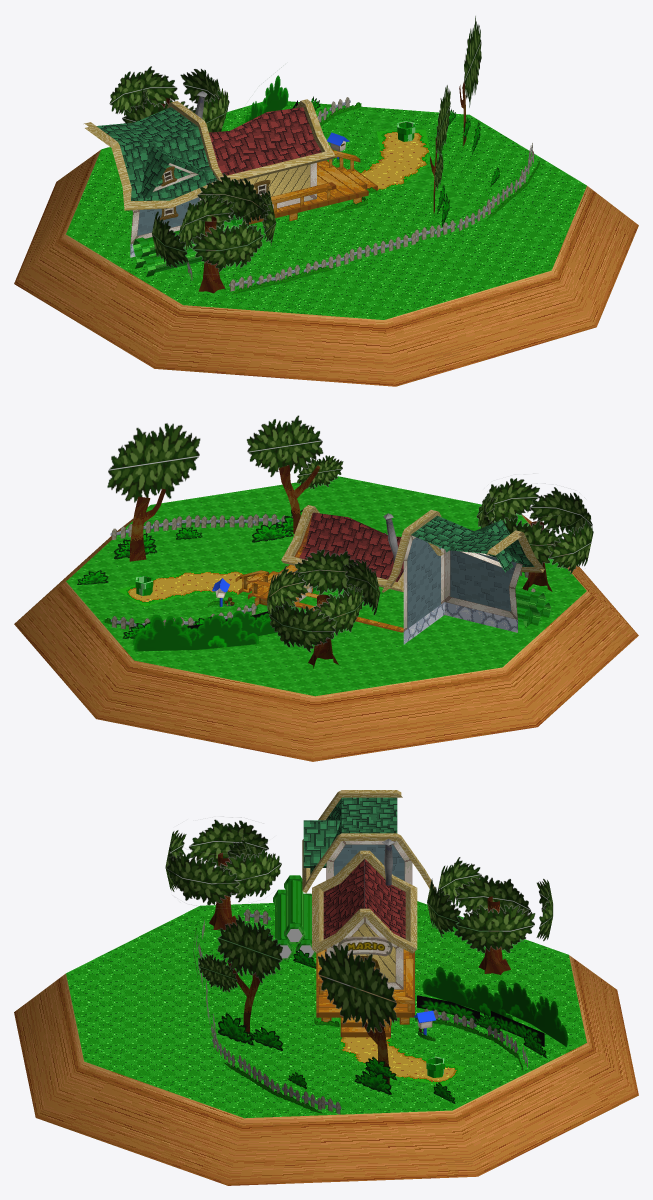
3 views of the same model, one above another, from view 1: azimuth 30°, elevation 25°; view 2: azimuth 150°, elevation 25°; view 3: azimuth 270°, elevation 25° (orthographic). The views are drawn at different scales.
Visible parts, largest first — view 1: Object_16, Object_2, Object_5, Object_24, Object_40, Object_12, Object_19, Object_41, Object_11, Object_4, Object_15, Object_3 (+9 smaller); view 2: Object_2, Object_16, Object_5, Object_18, Object_13, Object_29, Object_21, Object_19, Object_22, Object_14, Object_41, Object_12 (+7 smaller); view 3: Object_16, Object_2, Object_5, Object_13, Object_22, Object_11, Object_12, Object_21, Object_19, Object_41, Object_14, Object_24 (+12 smaller).
Boxes of the visible parts, left/top/right/bottom form: Object_16: left=66, top=101, right=586, bottom=319; Object_2: left=14, top=150, right=638, bottom=386; Object_5: left=109, top=15, right=481, bottom=274; Object_24: left=209, top=107, right=321, bottom=175; Object_40: left=120, top=107, right=217, bottom=200; Object_12: left=210, top=148, right=377, bottom=224; Object_19: left=187, top=97, right=534, bottom=291; Object_41: left=84, top=101, right=223, bottom=210; Object_11: left=96, top=122, right=207, bottom=199; Object_4: left=358, top=147, right=429, bottom=190; Object_15: left=227, top=103, right=335, bottom=181; Object_3: left=231, top=102, right=540, bottom=294; Object_2: left=14, top=506, right=638, bottom=761; Object_16: left=66, top=476, right=586, bottom=696; Object_5: left=107, top=415, right=593, bottom=652; Object_18: left=407, top=537, right=516, bottom=628; Object_13: left=133, top=601, right=305, bottom=651; Object_29: left=297, top=512, right=403, bottom=581; Object_21: left=129, top=465, right=552, bottom=668; Object_19: left=110, top=513, right=535, bottom=630; Object_22: left=77, top=508, right=303, bottom=638; Object_14: left=215, top=535, right=522, bottom=631; Object_41: left=382, top=509, right=544, bottom=592; Object_12: left=235, top=513, right=403, bottom=632; Object_16: left=66, top=901, right=586, bottom=1118; Object_2: left=14, top=955, right=638, bottom=1185; Object_5: left=165, top=816, right=553, bottom=1032; Object_13: left=422, top=966, right=568, bottom=1046; Object_22: left=218, top=929, right=546, bottom=1103; Object_11: left=303, top=797, right=397, bottom=867; Object_12: left=316, top=949, right=414, bottom=1037; Object_21: left=209, top=852, right=510, bottom=1083; Object_19: left=196, top=909, right=527, bottom=1114; Object_41: left=302, top=790, right=435, bottom=893; Object_14: left=326, top=841, right=432, bottom=1028; Object_24: left=323, top=859, right=364, bottom=939.
Bounding box in the file's own units: 24.76 × 8.13 × 24.76.
